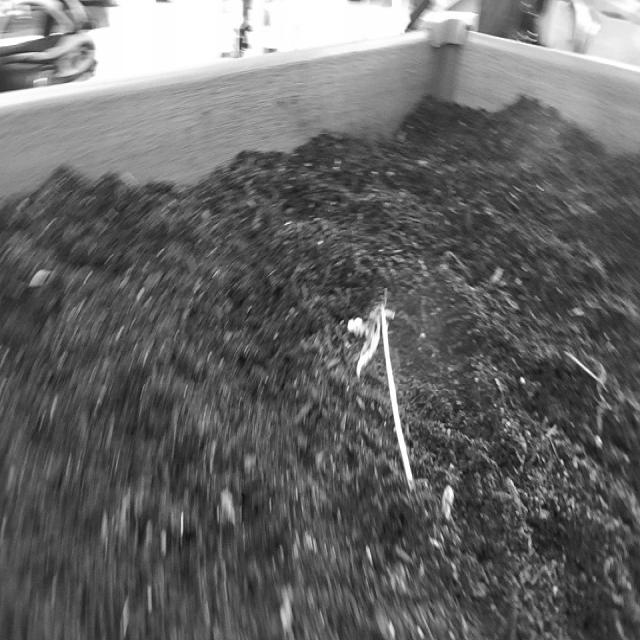Unhealthy: (342, 278, 432, 508)
